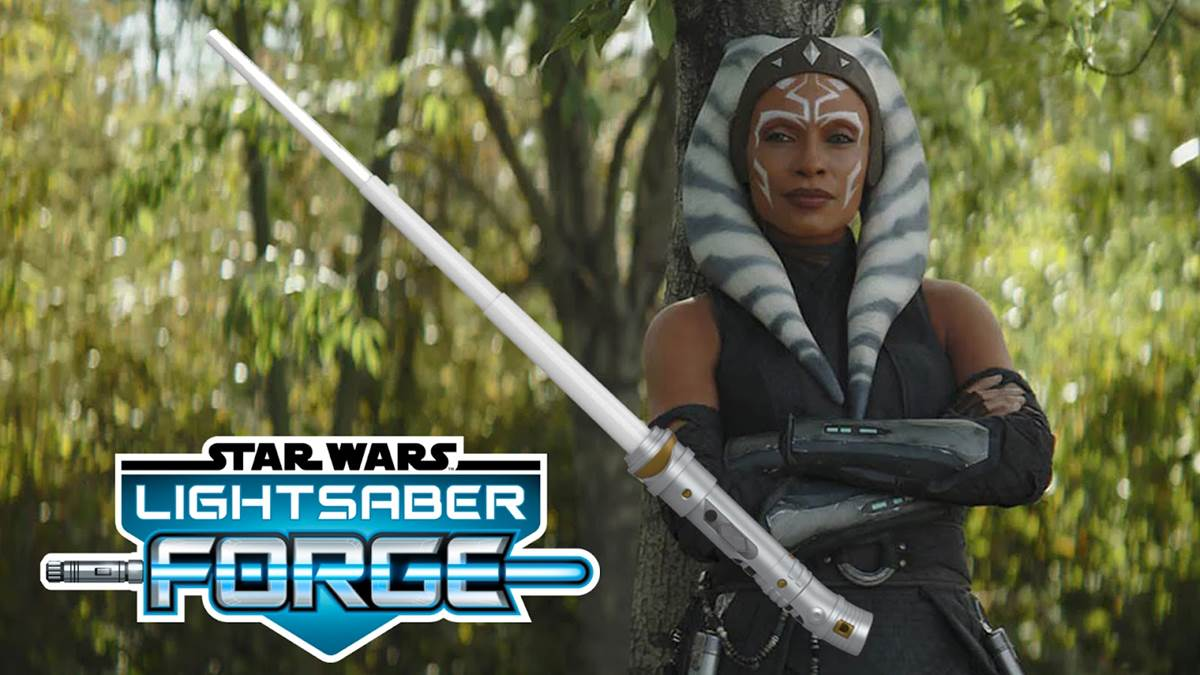lightsaber: (192, 0, 881, 675)
